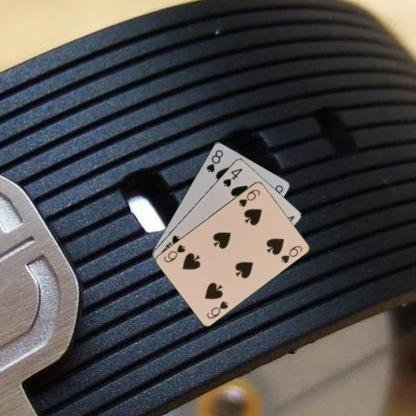4s: (219, 166, 244, 188)
6s: (236, 186, 261, 208), (204, 298, 229, 320)
8s: (203, 147, 224, 173)
